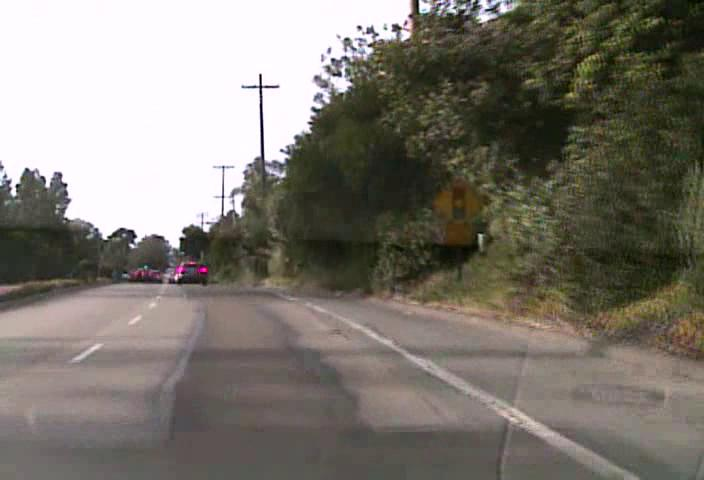signalAhead: (432, 175, 484, 227)
